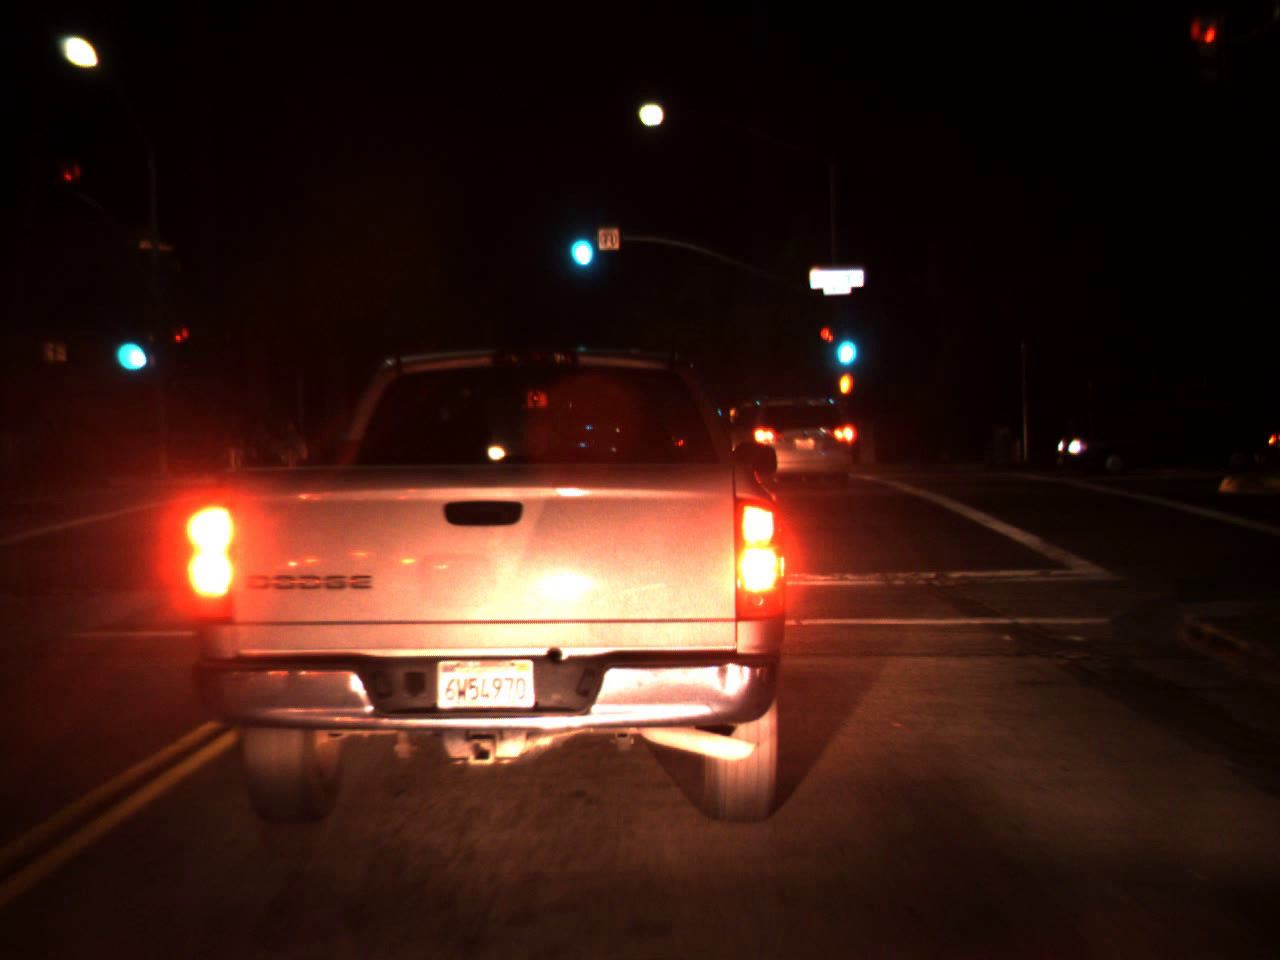go: (107, 306, 148, 381), (562, 206, 598, 275), (829, 309, 861, 375)
